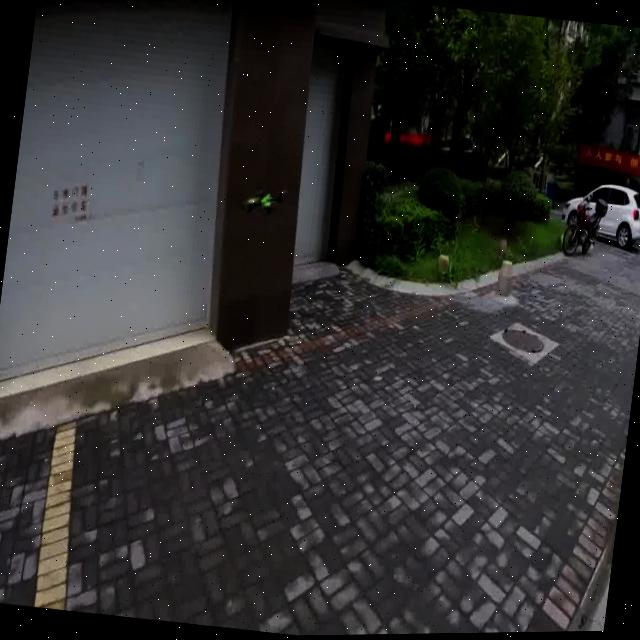drone: (244, 177, 292, 222)
